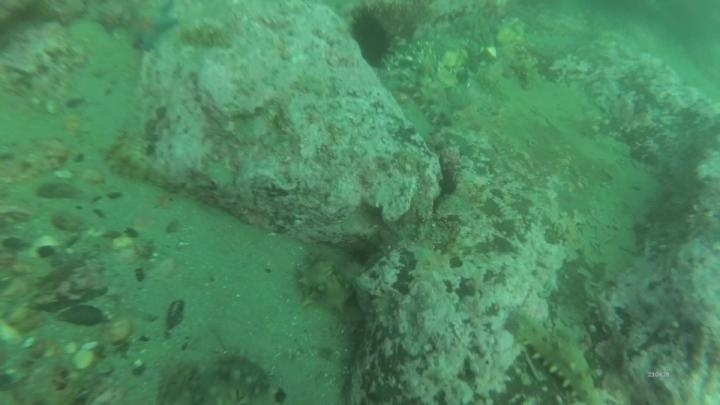echinus: (347, 8, 396, 69)
holothurian: (506, 308, 603, 402), (191, 347, 280, 405), (105, 93, 165, 179), (293, 250, 354, 316), (410, 73, 456, 131), (176, 19, 235, 51)
starfish: (123, 3, 180, 54)
